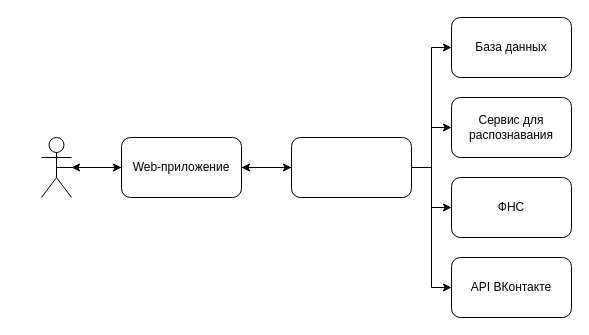
Image size: 589x335. Some labels were removed from this diagram. The box of each missing label's shape, as (x1, y1, x2, y2) in pixels:
API: (290, 136, 412, 198)
Пользователь: (40, 136, 72, 198)
